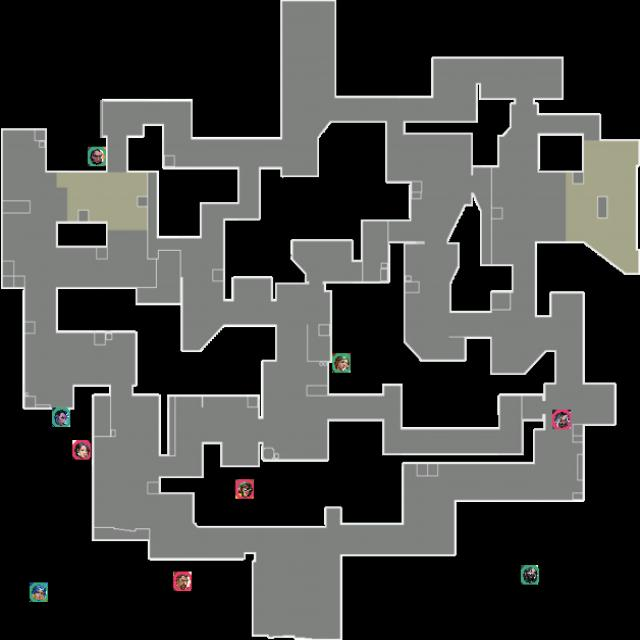atk_breach: (173, 572, 192, 591)
atk_fade: (552, 410, 571, 429)
atk_killjoy: (235, 479, 254, 499)
atk_sage: (72, 440, 91, 460)
def_neon: (29, 582, 48, 602)
def_reyna: (88, 147, 106, 166)
def_skye: (332, 353, 351, 373)
def_viper: (521, 565, 539, 585)
def_yoru: (52, 407, 70, 427)
